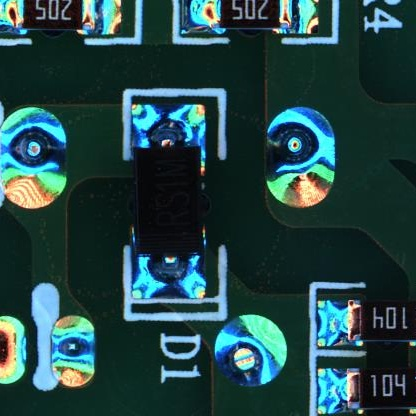spot: (264, 105, 336, 210), (1, 106, 65, 209), (213, 313, 290, 389), (50, 314, 97, 388), (1, 313, 28, 387)
